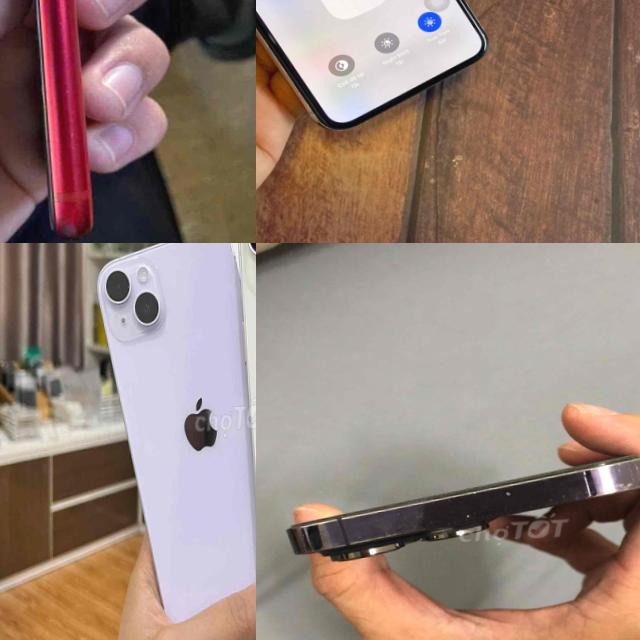gen_7_8: (0, 0, 101, 243)
gen_x_xs: (256, 0, 485, 128)
scratch: (271, 452, 640, 570), (356, 482, 504, 510), (316, 521, 426, 554), (572, 473, 640, 501), (58, 76, 76, 142), (456, 507, 488, 525), (499, 487, 535, 502)
